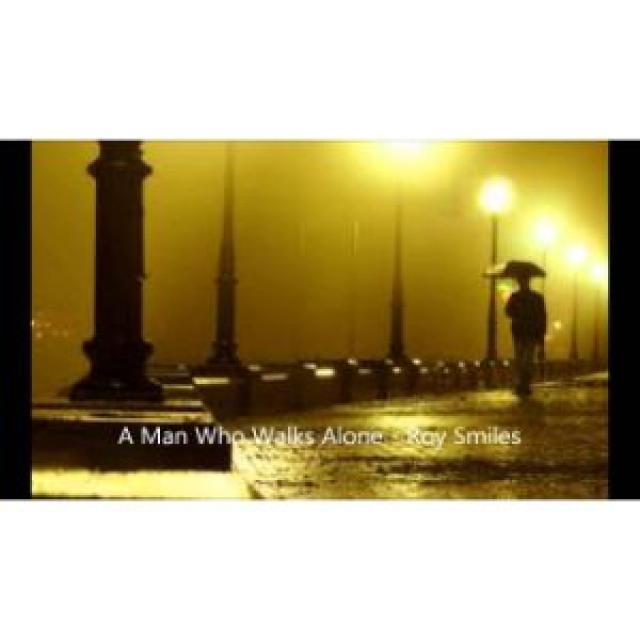nonfall: (504, 264, 553, 406)
